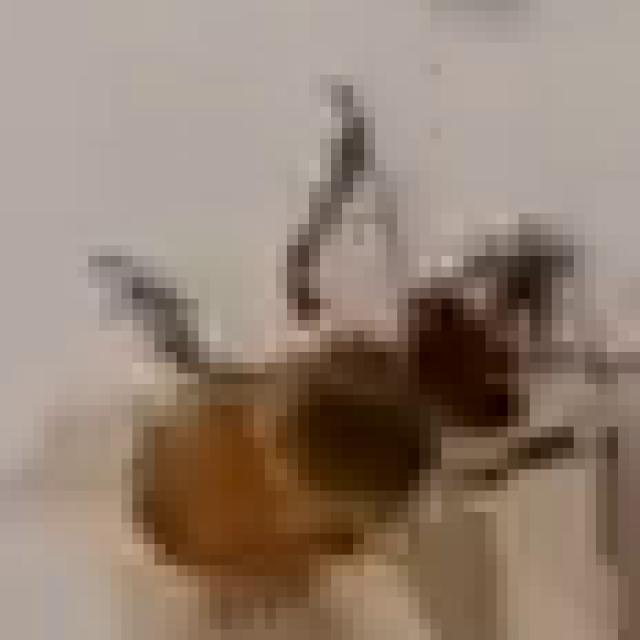honeybee: (86, 199, 587, 563)
